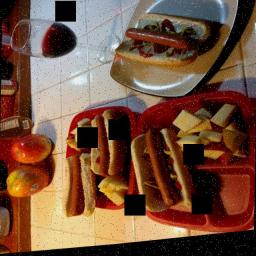hotdog: (112, 11, 211, 76)
